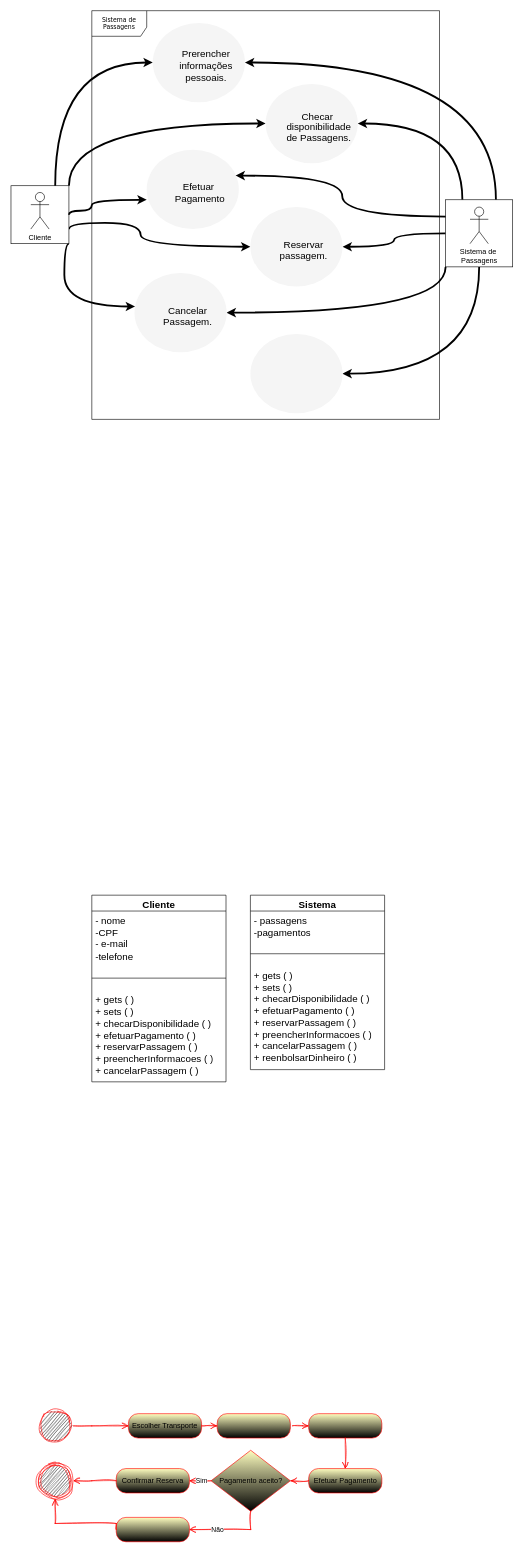
Image size: 523x1552. Some labels were removed from this diagram. Here are the shapes that lost their labels. From the top down, the centre of each, then its label:
At pixel 296 373: "Reembolso".
At pixel 55 1425: "Início".
At pixel 253 1425: "Escolher Horário".
At pixel 345 1425: "Verificar Valor".
At pixel 55 1480: "Fim".
At pixel 152 1529: "Exibir Erro".
